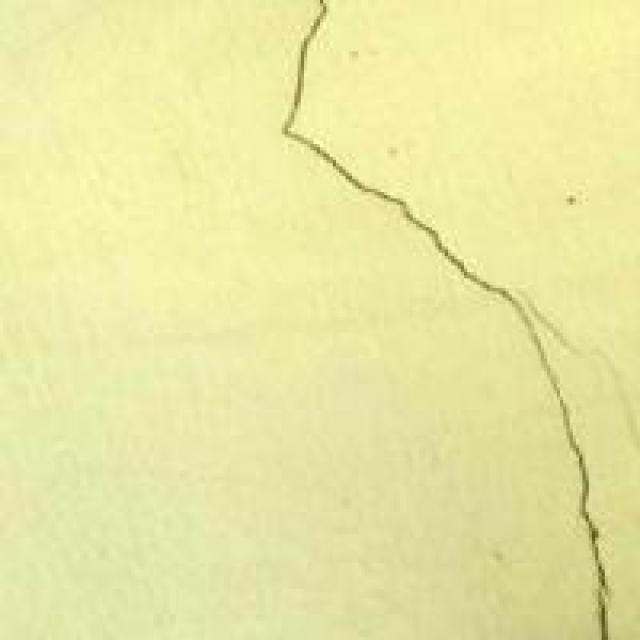Crack: (256, 0, 637, 634)
